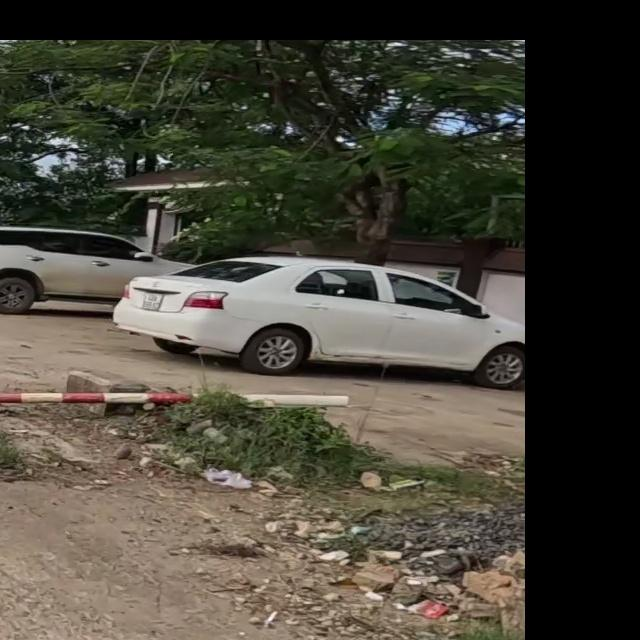license-plate: (140, 292, 164, 310)
